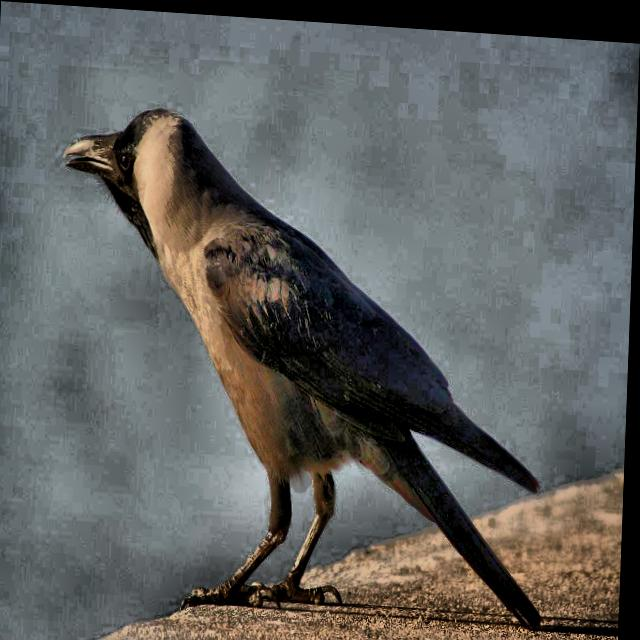crow: (15, 91, 569, 640)
